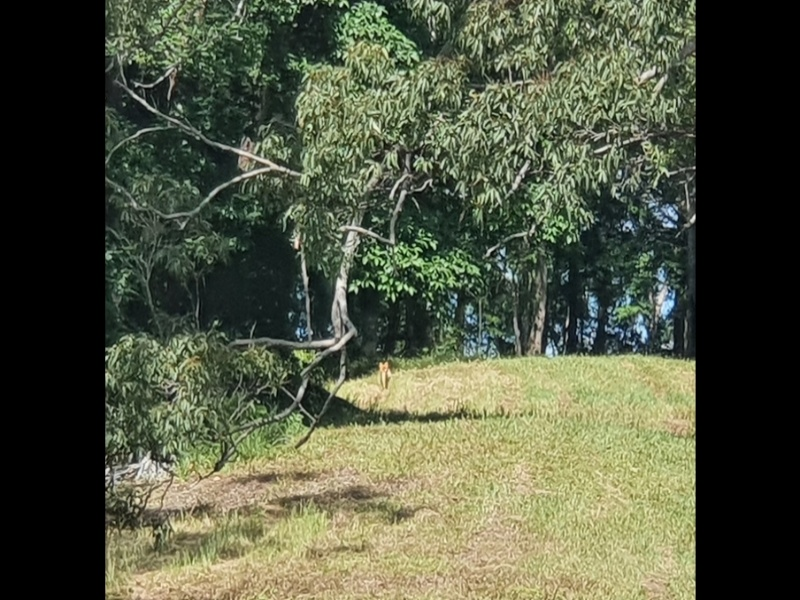dog: (375, 362, 396, 392)
